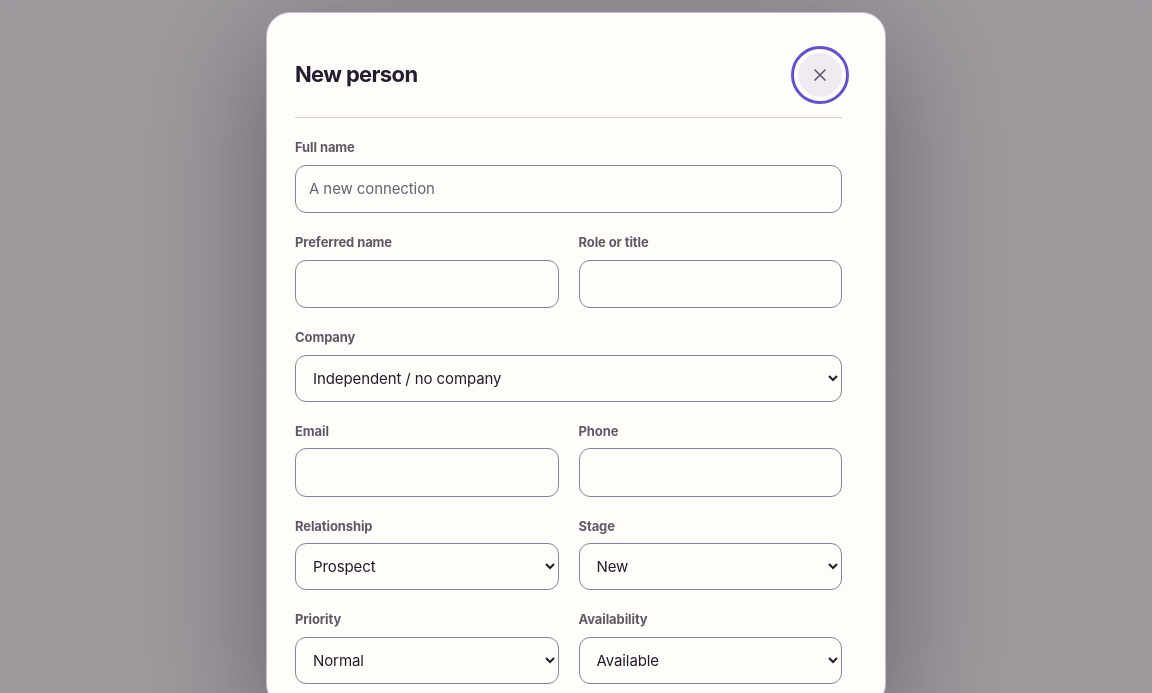
Test: keeps a failed save open and announces its error inside the editing dialog
The image size is (1152, 693).
Type "Fictional failure case" into the field labelled "Full name" at [568, 189], box [295,164,842,213]
(page scrolled)
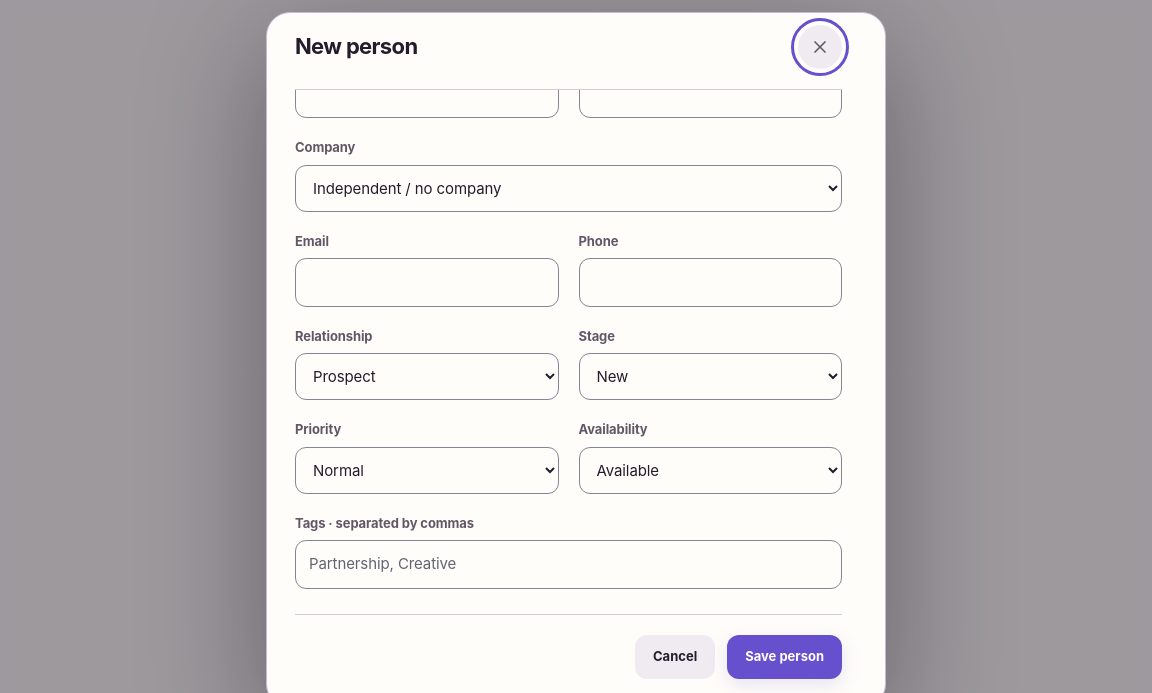
Click the button "Save person" at [785, 656], box [727,634,842,678]
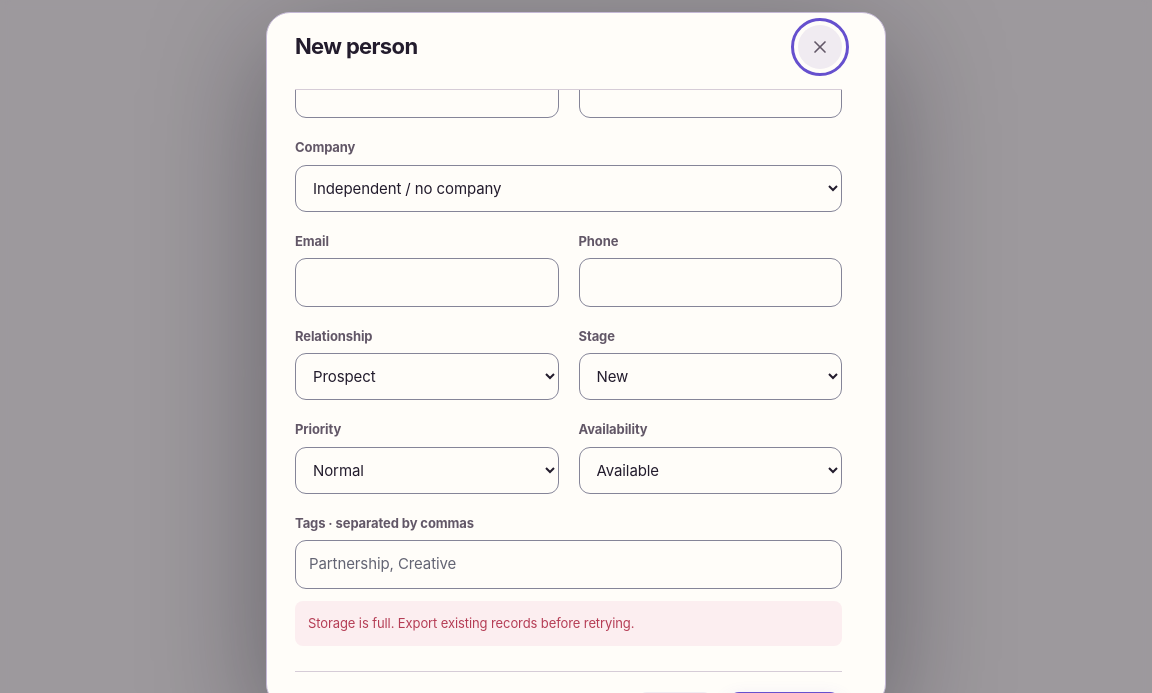
Expected: the message shows "Storage is full", [308,614,634,630]
